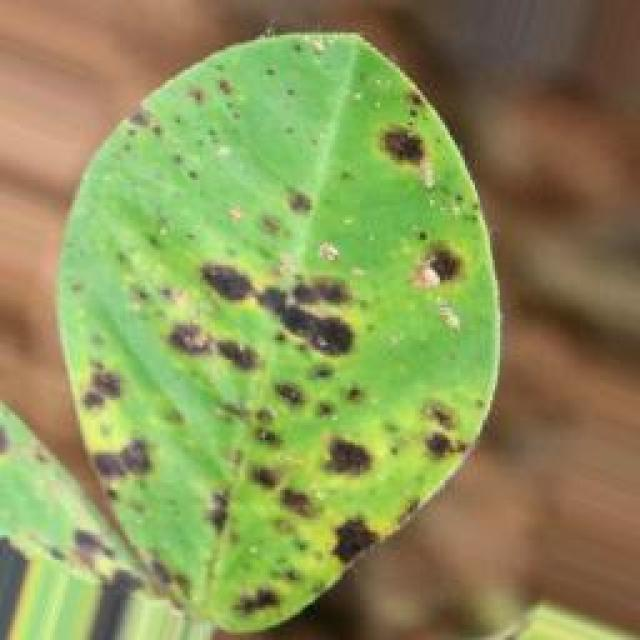Yellowish: (37, 51, 562, 618)
